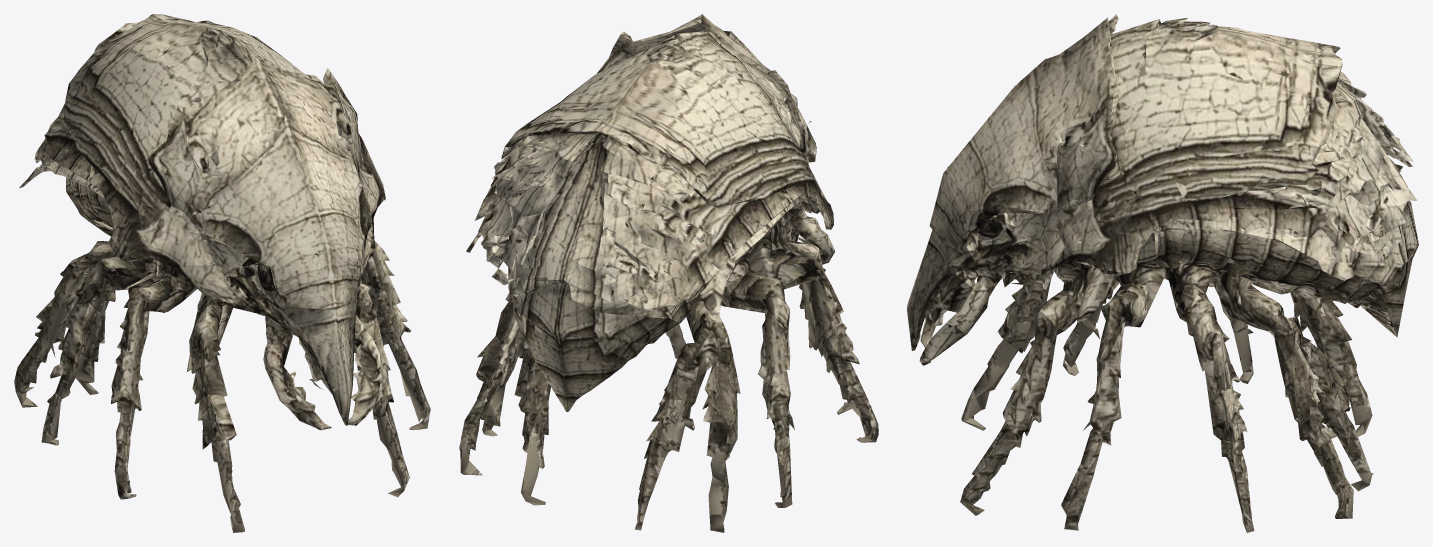
The model's file is caricatore.glb.
The picture shows the model from 3 angles, left to right: view 1: azimuth 30°, elevation 25°; view 2: azimuth 150°, elevation 25°; view 3: azimuth 270°, elevation 25°; orthographic projection. The views are drawn at different scales.
Parts seen in each view (by area): view 1: geometry_0; view 2: geometry_0; view 3: geometry_0.
Boxes of the visible parts, x1,y1,x2,y2 form: geometry_0: (14, 14, 430, 532); geometry_0: (459, 14, 878, 532); geometry_0: (907, 14, 1418, 532).
Size of the model in its own units: 1.5 by 1.93 by 1.97.
1 material, 1 textured.
